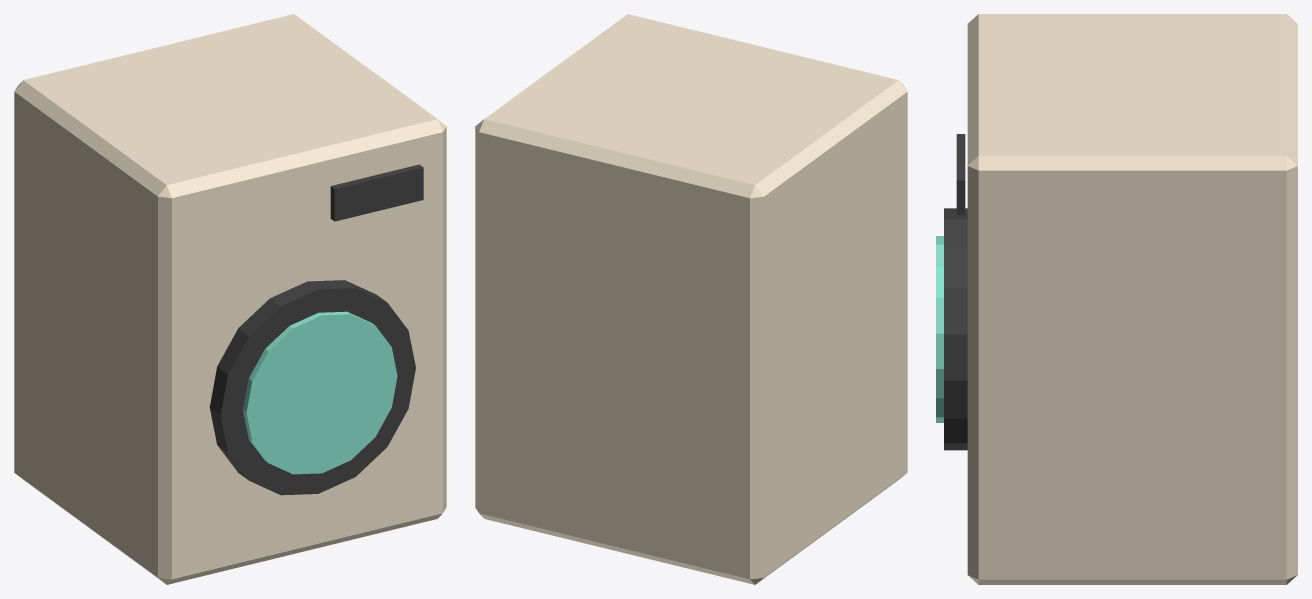
3 views of the same model, side by side, from view 1: azimuth 30°, elevation 25°; view 2: azimuth 150°, elevation 25°; view 3: azimuth 270°, elevation 25° (orthographic). The views are drawn at different scales.
Parts seen in each view (by area): view 1: Washing machine, Drum window, Door rim, Readout; view 2: Washing machine; view 3: Washing machine, Door rim, Drum window, Readout.
Boxes of the visible parts, left/top/right/bottom form: Washing machine: left=14, top=14, right=446, bottom=584; Drum window: left=243, top=311, right=397, bottom=474; Door rim: left=209, top=280, right=415, bottom=495; Readout: left=330, top=164, right=423, bottom=221; Washing machine: left=475, top=14, right=907, bottom=584; Washing machine: left=967, top=14, right=1297, bottom=584; Door rim: left=944, top=208, right=967, bottom=450; Drum window: left=936, top=236, right=943, bottom=422; Readout: left=956, top=134, right=965, bottom=215.
Size of the model in its own units: 65 by 86 by 65.7.
